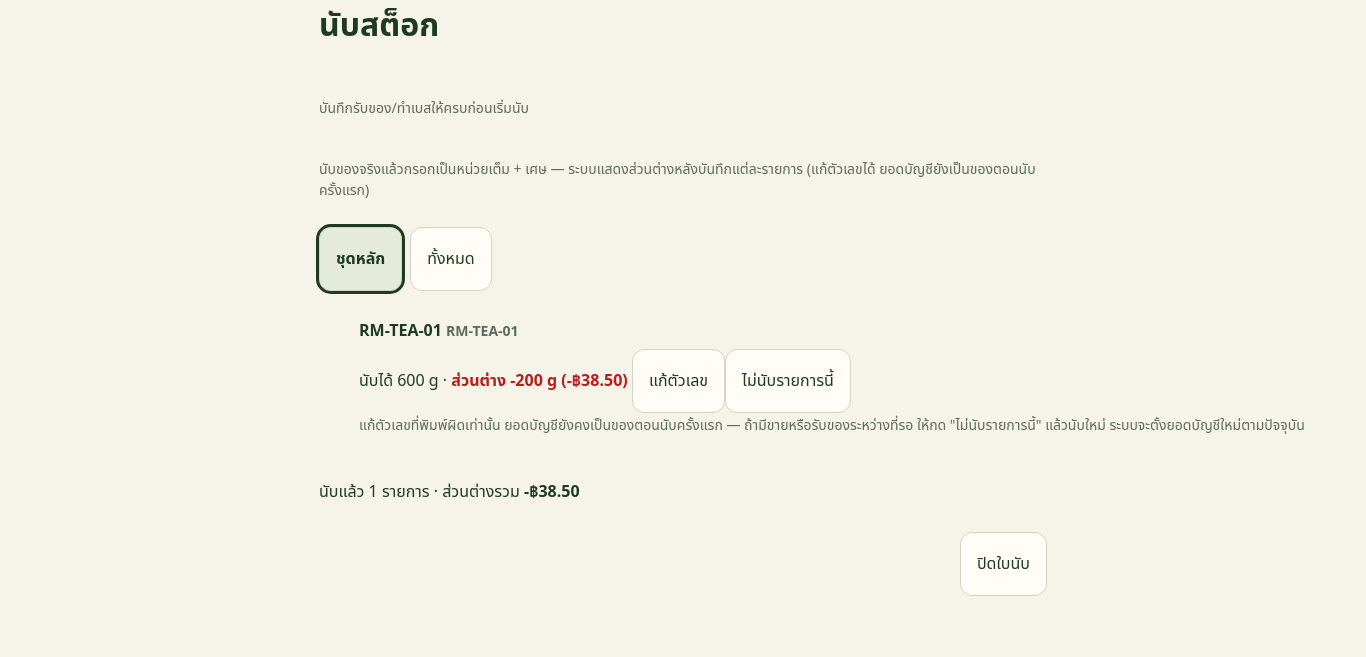
CountScreen — the close confirm resets after a refusal (review m-2) › OPENING_COUNT_INCOMPLETE un-arms count-close-confirm; a fresh tap on count-close is needed to retry
Click the button with test id "count-close" at (1003,564), box [960,532,1047,596]
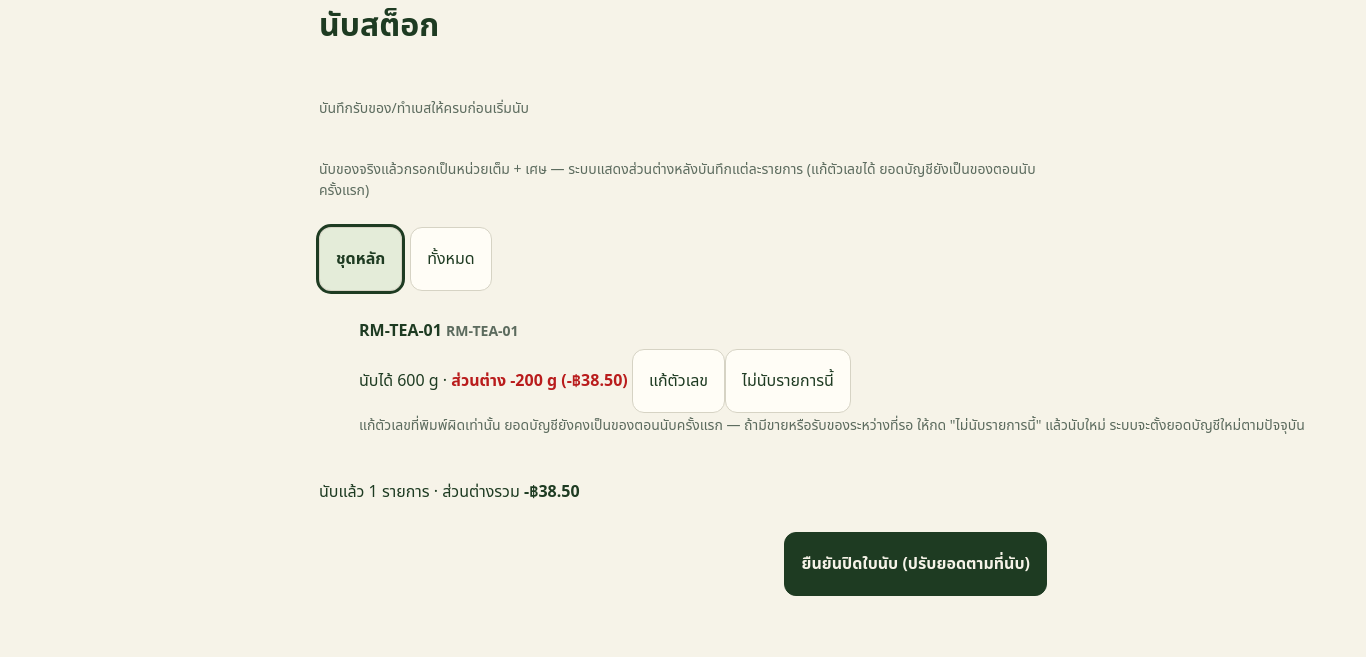
Click the button with test id "count-close-confirm" at (916,564), box [784,532,1047,596]
(page scrolled)
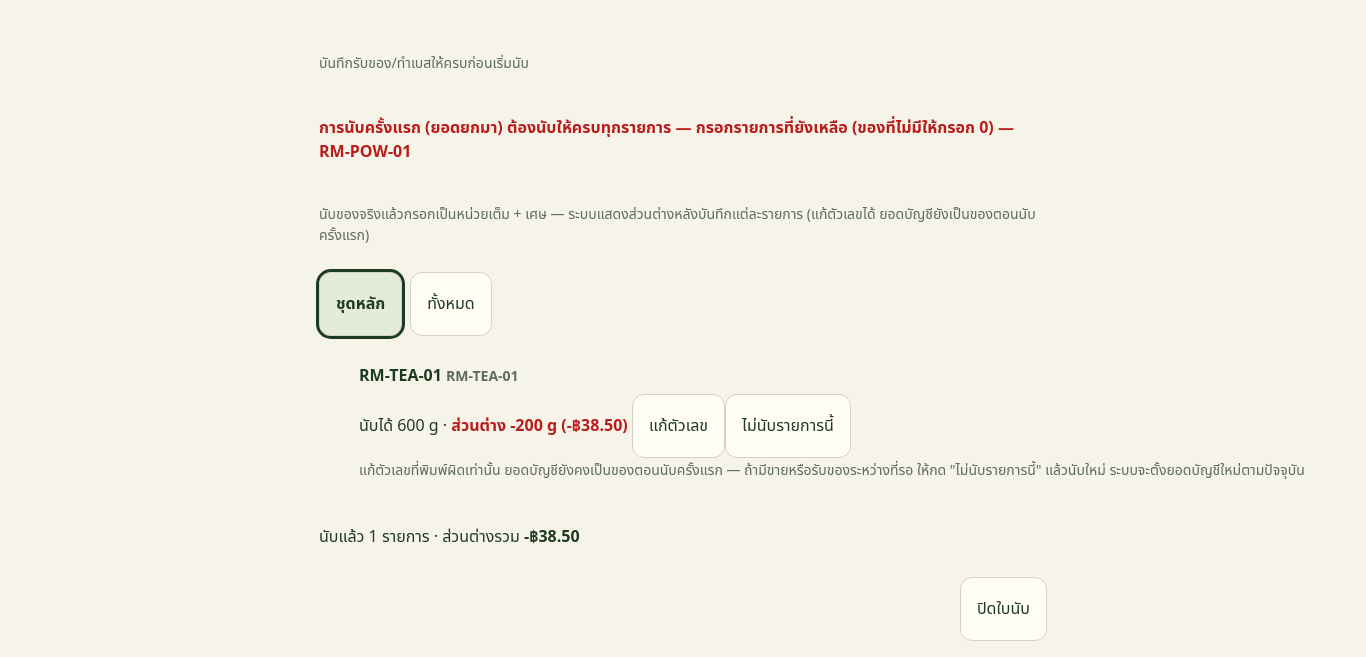
Check: the button with test id "count-close" is shown, box [960,577,1047,641]
Check: the message is shown, box [319,116,1047,162]
